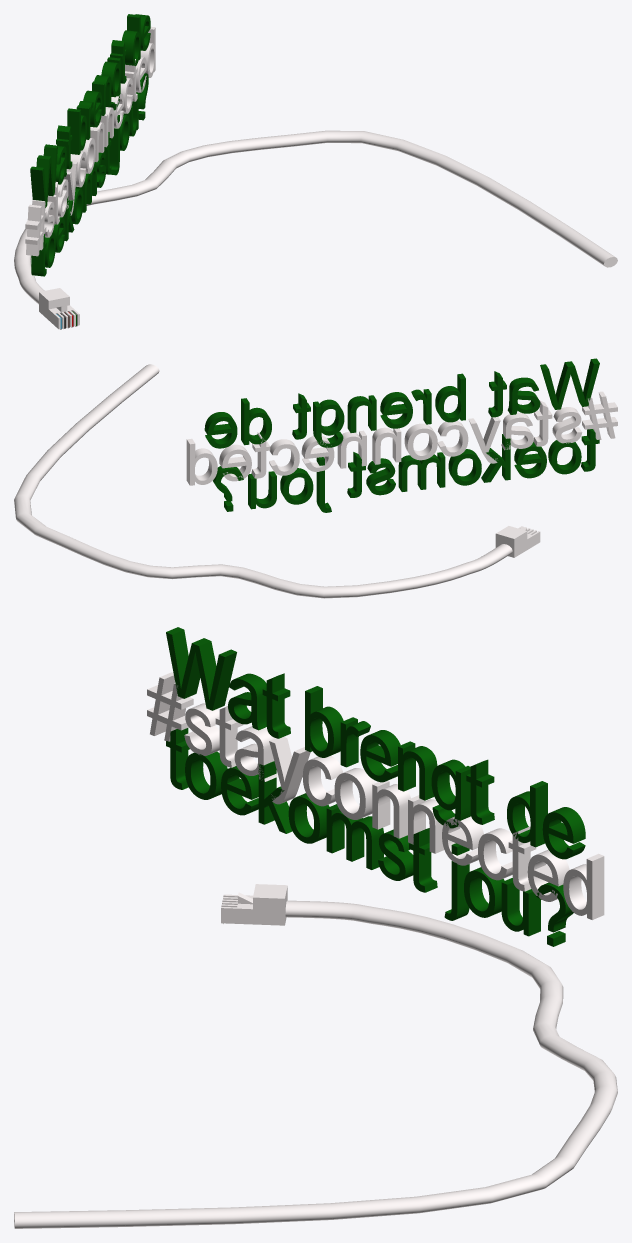
The model's file is Kabel en Tekst V2.FBX.
The picture shows the model from 3 angles, top to bottom: view 1: azimuth 30°, elevation 25°; view 2: azimuth 150°, elevation 25°; view 3: azimuth 270°, elevation 25°; orthographic projection. The views are drawn at different scales.
Visible parts, largest first — view 1: WatBrengt, UTP_Kabel, Stayconnected, Box20261; view 2: WatBrengt, Stayconnected, UTP_Kabel, Box20261; view 3: WatBrengt, Stayconnected, UTP_Kabel, Box20261.
Boxes of the visible parts, x1=… form: WatBrengt: x1=30, y1=14, x2=150, y2=276; UTP_Kabel: x1=14, y1=130, x2=617, y2=304; Stayconnected: x1=25, y1=26, x2=155, y2=256; Box20261: x1=39, y1=288, x2=79, y2=329; WatBrengt: x1=204, y1=358, x2=599, y2=512; Stayconnected: x1=186, y1=391, x2=617, y2=485; UTP_Kabel: x1=14, y1=364, x2=512, y2=598; Box20261: x1=495, y1=526, x2=540, y2=557; WatBrengt: x1=166, y1=627, x2=585, y2=946; Stayconnected: x1=147, y1=672, x2=604, y2=919; UTP_Kabel: x1=14, y1=900, x2=617, y2=1228; Box20261: x1=221, y1=884, x2=287, y2=925.
Bounding box in the file's own units: 668 × 219 × 470.
